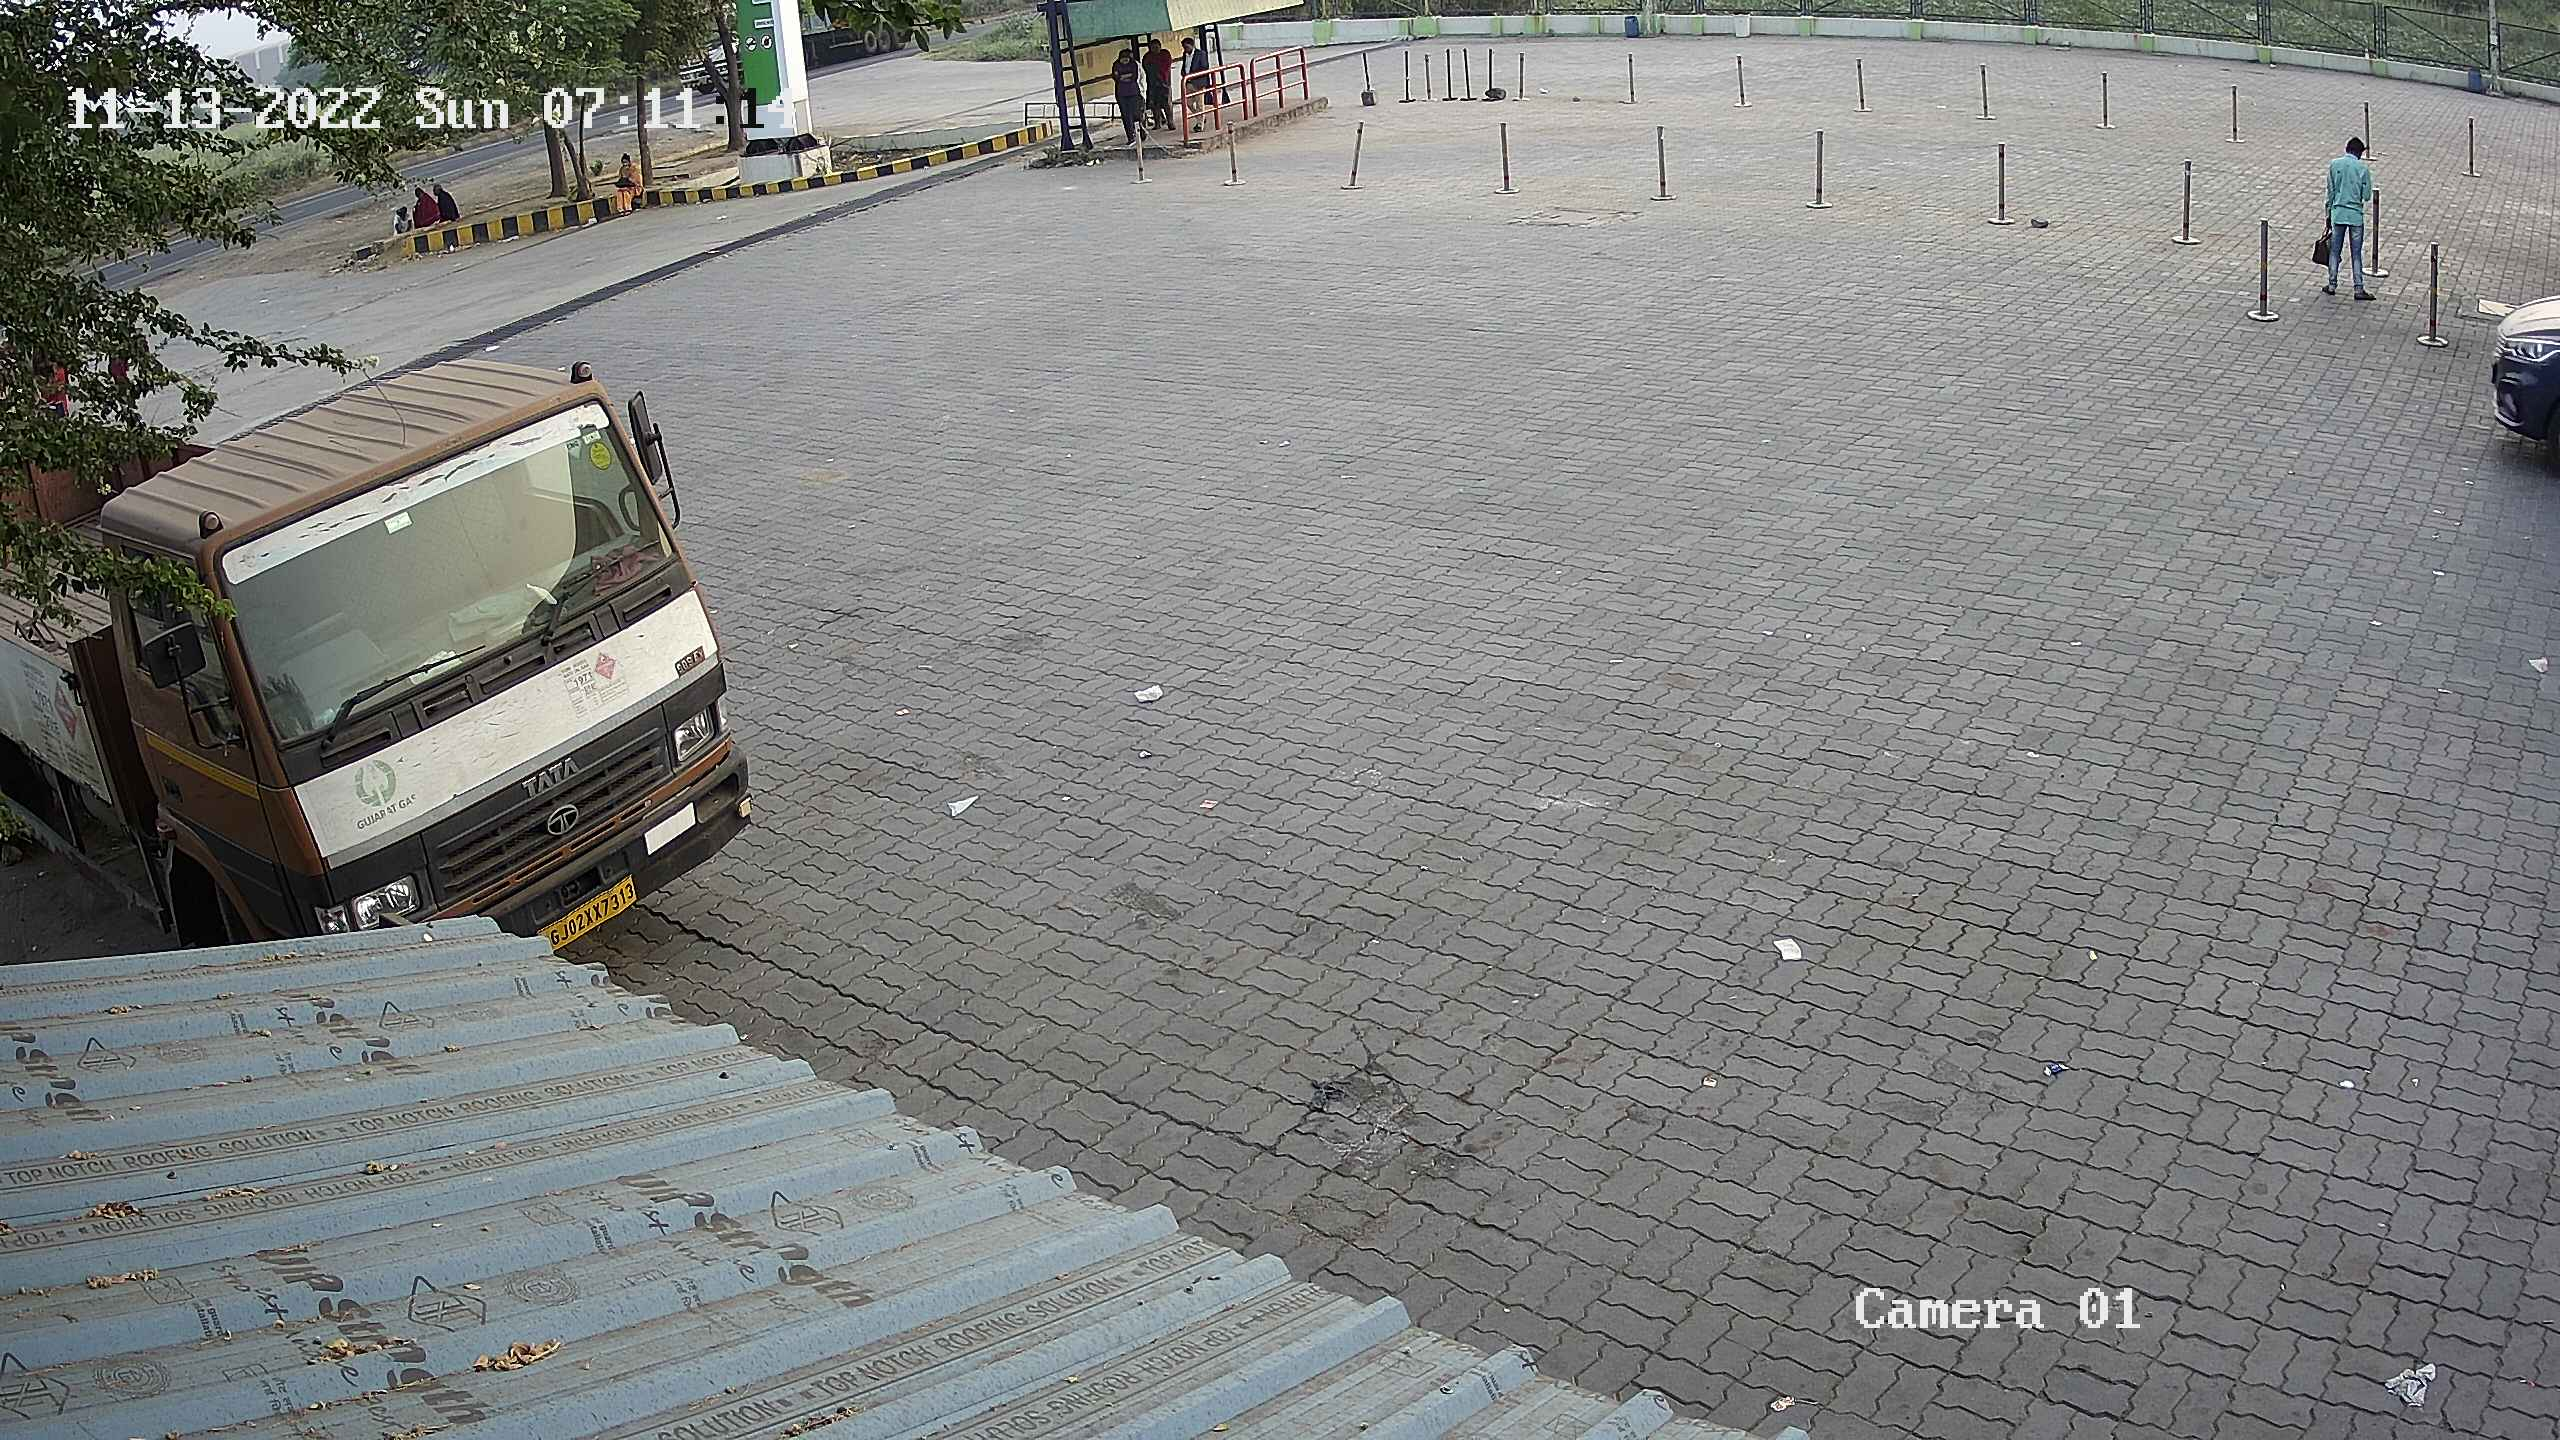Car: (2483, 169, 2560, 550)
HMV: (4, 338, 772, 969)
